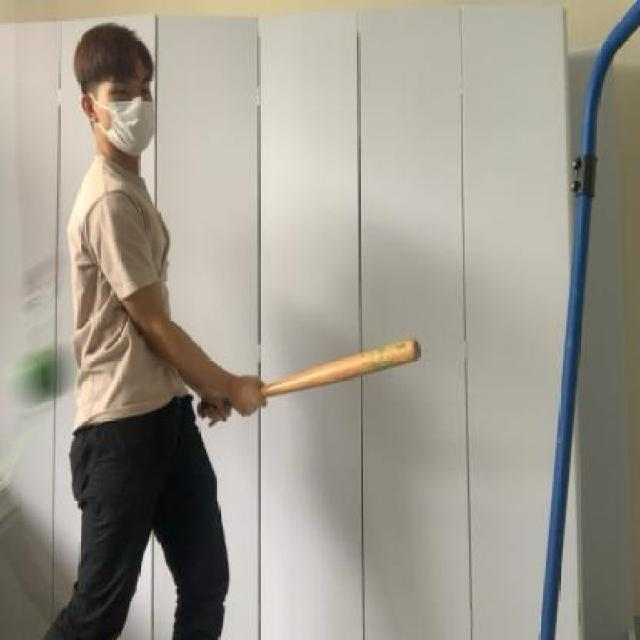baseball: (11, 336, 71, 399)
